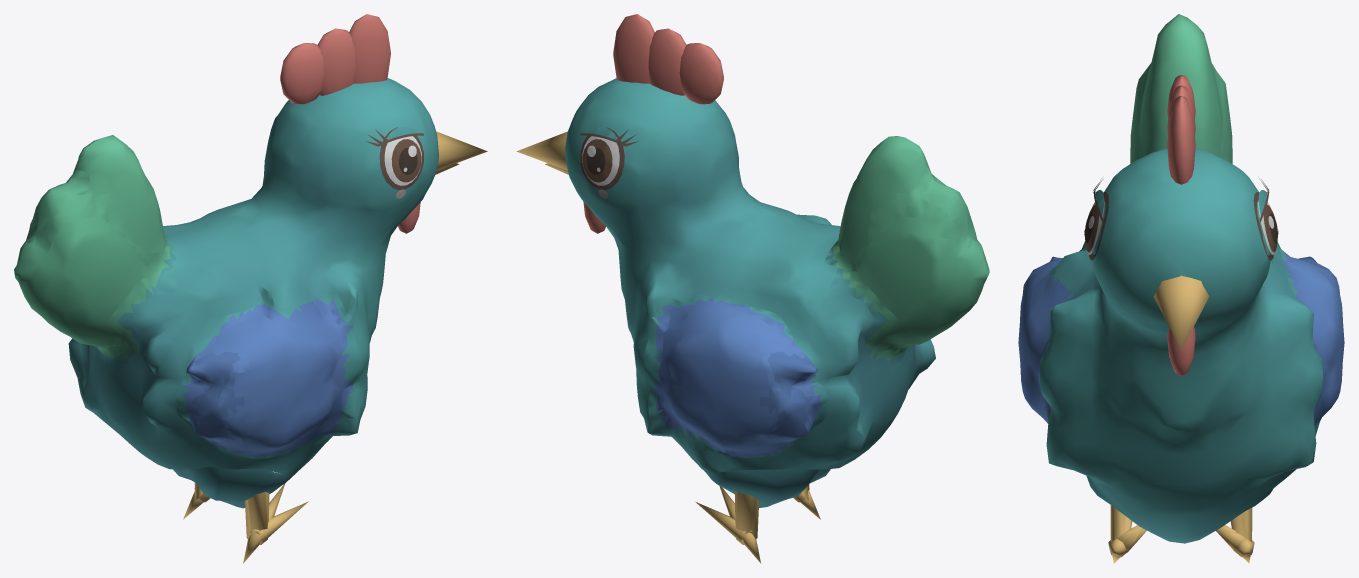
Rendered from peacock_chicken.glb.
3 renders of one model, left to right at view 1: azimuth 30°, elevation 25°; view 2: azimuth 150°, elevation 25°; view 3: azimuth 270°, elevation 25°, orthographic. The views are drawn at different scales.
Visible parts, largest first — view 1: peacock_chicken; view 2: peacock_chicken; view 3: peacock_chicken.
Boxes of the visible parts, x1=… form: peacock_chicken: x1=14, y1=14, x2=487, y2=563; peacock_chicken: x1=516, y1=14, x2=989, y2=563; peacock_chicken: x1=1018, y1=14, x2=1344, y2=563.
Size of the model in its own units: 0.5326 by 0.5273 by 0.282.
